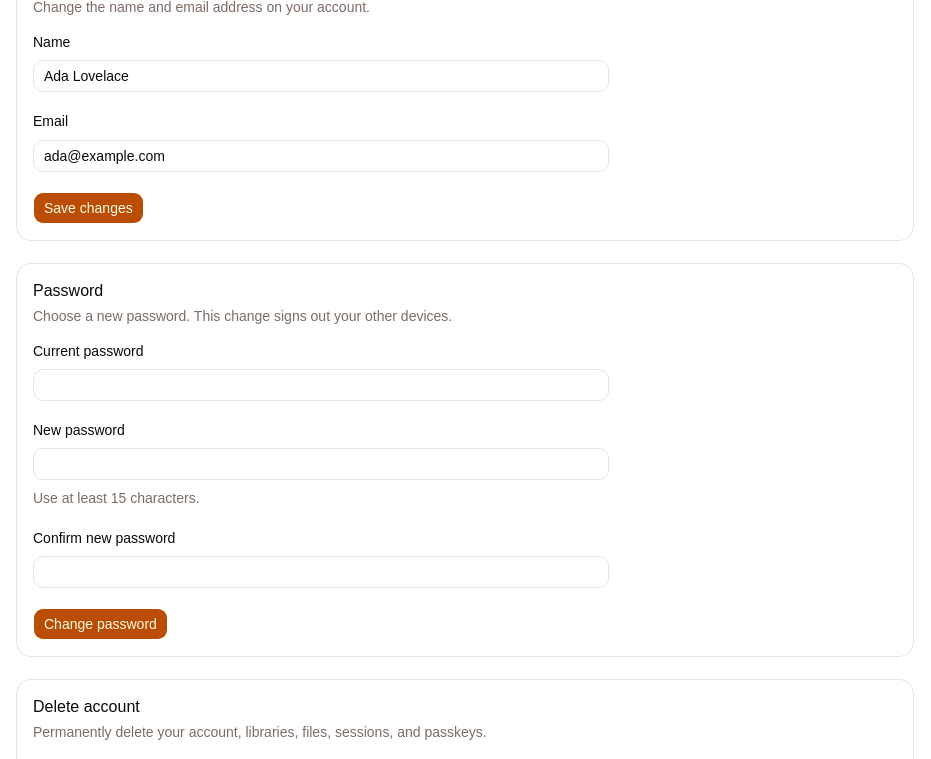
Test: account settings › shows the server error when the current password is wrong
(page scrolled)
Type "incorrect password" into the password field labelled "Current password".
click(321, 385); type("incorrect password")  # box [33, 369, 609, 401]
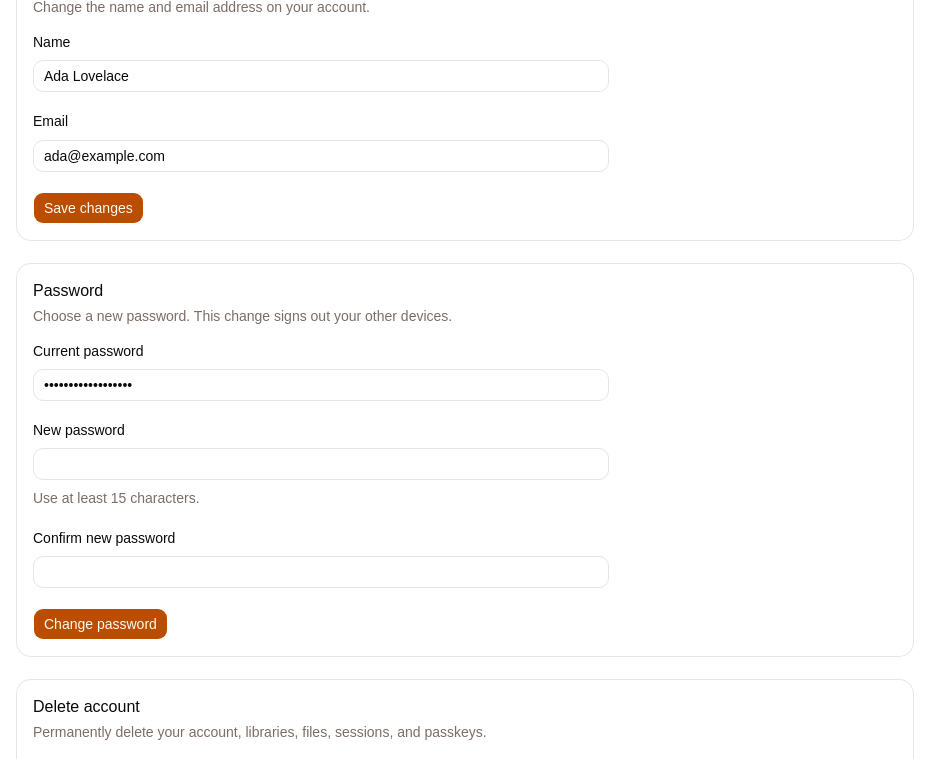
Type "a different secure password" into the password field labelled "New password".
click(321, 464); type("a different secure password")  # box [33, 448, 609, 480]
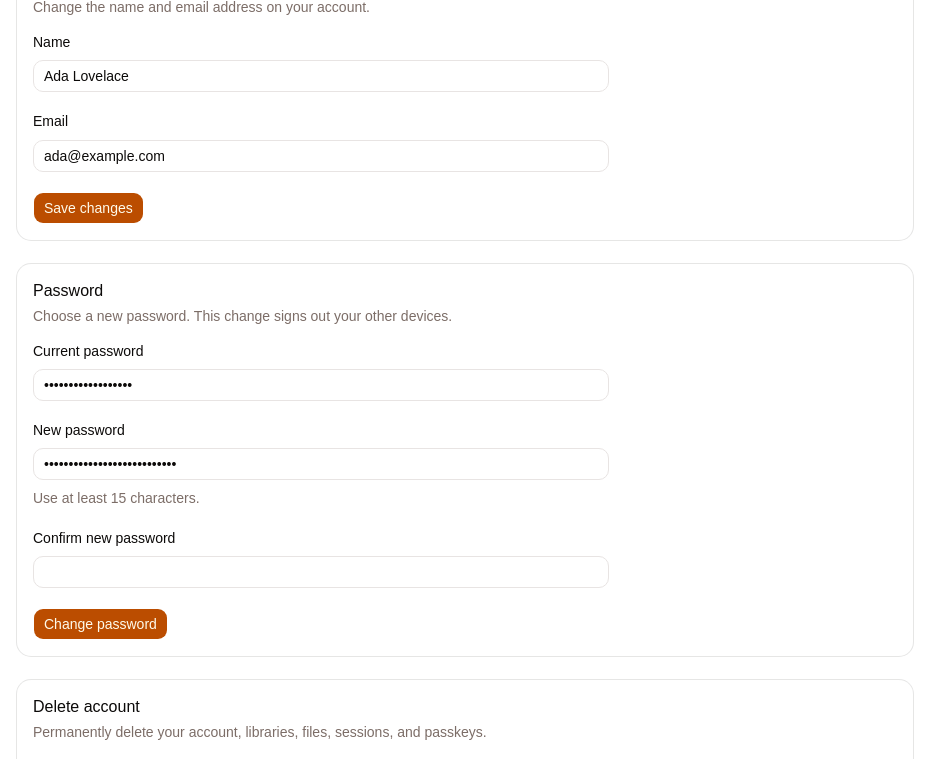
Type "a different secure password" into the password field labelled "Confirm new password".
click(321, 572); type("a different secure password")  # box [33, 556, 609, 588]
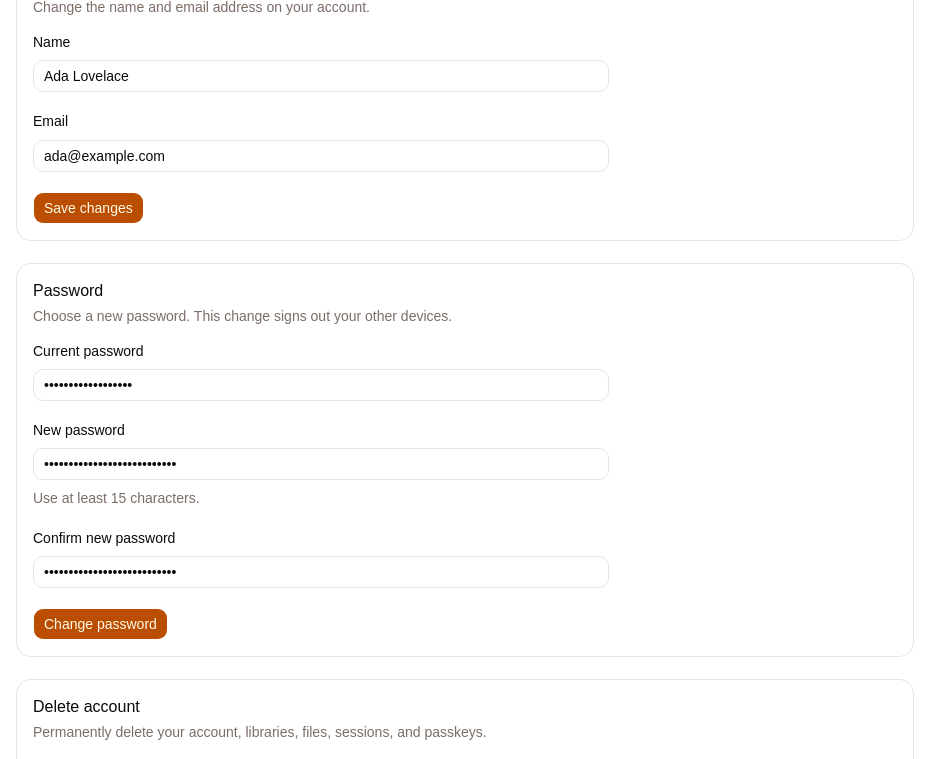
Click the button "Change password".
click(100, 624)  # box [33, 608, 168, 640]
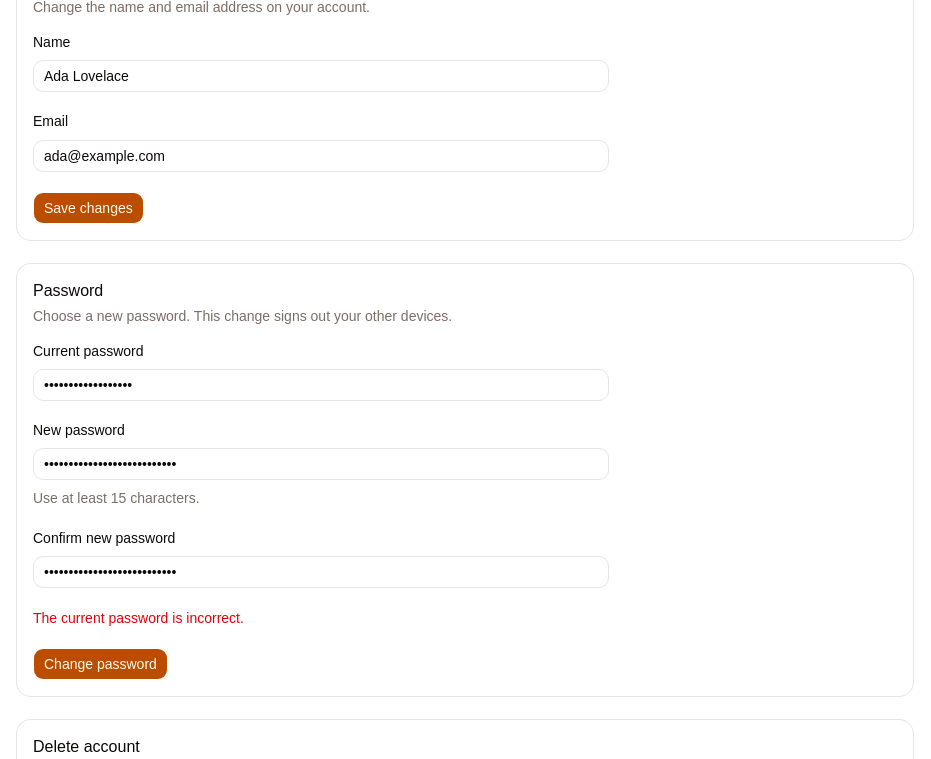
Now the text "The current password is incorrect." is shown, box [33, 610, 244, 626]
